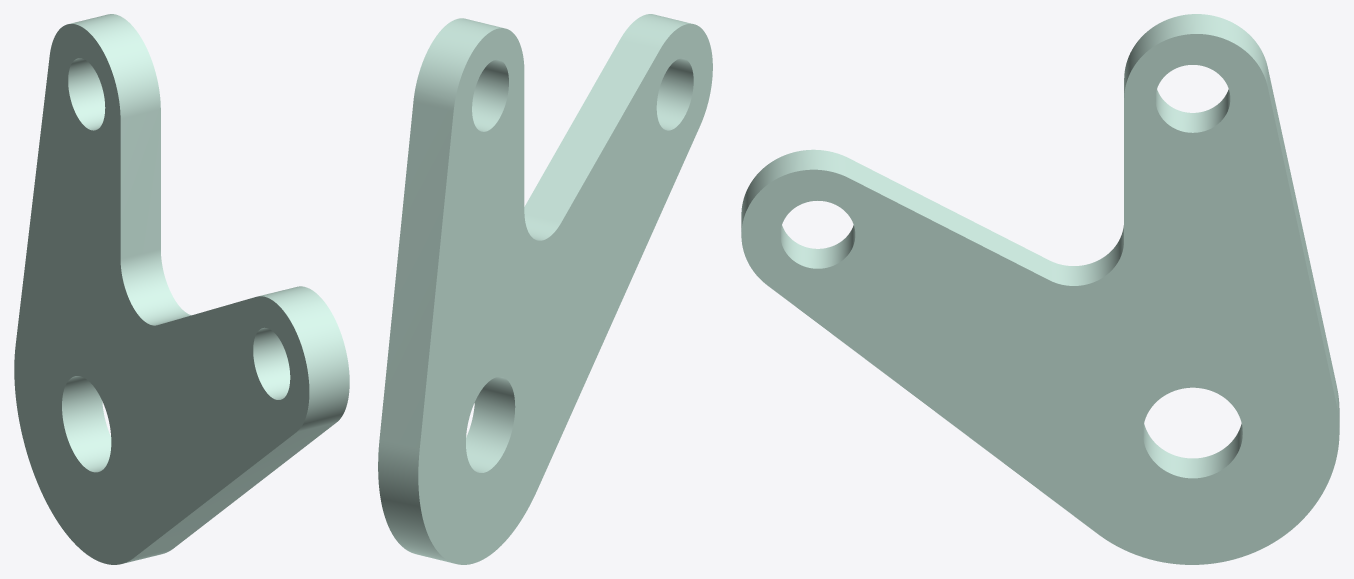
The picture shows the model from 3 angles, left to right: view 1: azimuth 30°, elevation 25°; view 2: azimuth 150°, elevation 25°; view 3: azimuth 270°, elevation 25°; orthographic projection.
Parts seen in each view (by area): view 1: Renderer Node; view 2: Renderer Node; view 3: Renderer Node.
Boxes of the visible parts, x1,y1,x2,y2 form: Renderer Node: [14, 14, 349, 564]; Renderer Node: [378, 14, 712, 564]; Renderer Node: [741, 14, 1339, 564].
Bounding box in the file's own units: 0.0781 × 0.9715 × 0.9917.
